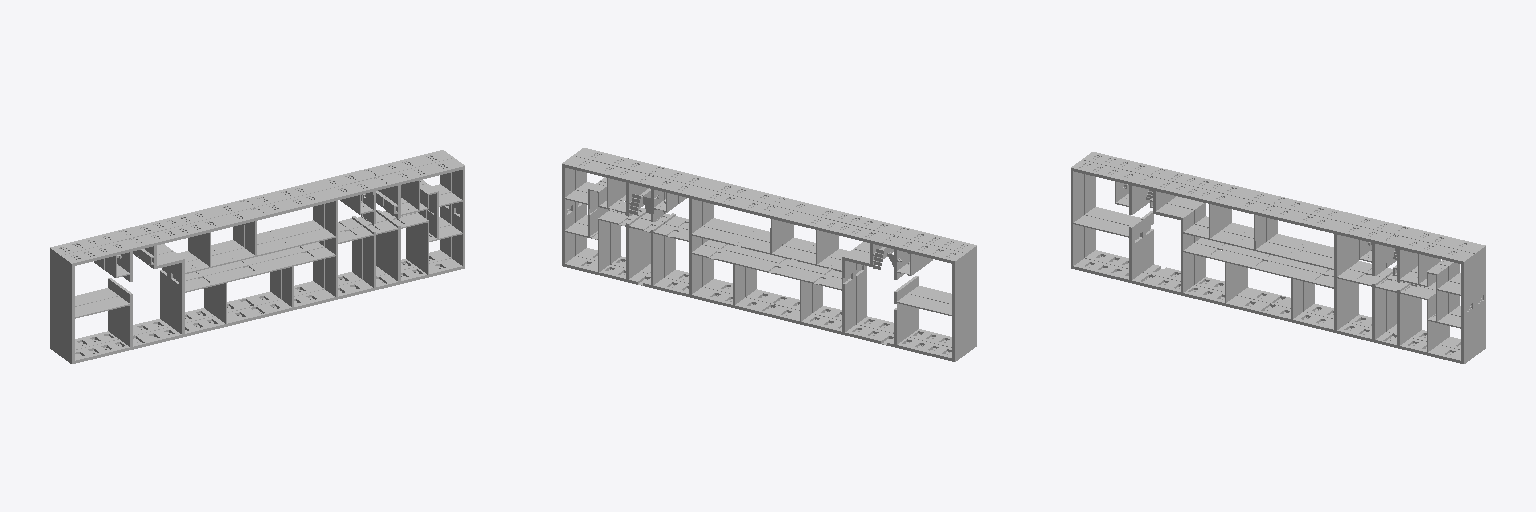
File: Level 1-2_new.obj
3 renders of one model, left to right at view 1: azimuth 30°, elevation 25°; view 2: azimuth 150°, elevation 25°; view 3: azimuth 330°, elevation 25°, orthographic.
Visible parts, largest first — view 1: mesh_2, mesh_1, mesh_5, mesh_12, mesh_11; view 2: mesh_2, mesh_1, mesh_5, mesh_12, mesh_3, mesh_11; view 3: mesh_2, mesh_1, mesh_5, mesh_12, mesh_11.
Boxes of the visible parts, box(x1,y1,x2,y2) form: mesh_2: box(50, 150, 464, 363); mesh_1: box(61, 158, 464, 363); mesh_5: box(59, 156, 459, 356); mesh_12: box(117, 184, 433, 309); mesh_11: box(61, 157, 459, 356); mesh_2: box(562, 148, 976, 361); mesh_1: box(562, 156, 962, 361); mesh_5: box(567, 153, 966, 354); mesh_12: box(588, 179, 909, 345); mesh_3: box(567, 153, 951, 353); mesh_11: box(567, 154, 966, 353); mesh_2: box(1073, 152, 1485, 360); mesh_1: box(1071, 160, 1474, 363); mesh_5: box(1080, 155, 1482, 355); mesh_12: box(1124, 197, 1449, 317); mesh_11: box(1081, 156, 1482, 354).
Bounding box in the file's own units: 62.42 × 15.57 × 6.93.